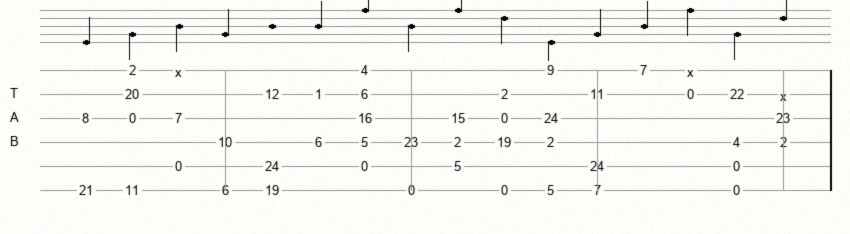0: (129, 111, 140, 125), (175, 159, 186, 173), (361, 159, 372, 173), (408, 183, 419, 197), (501, 111, 512, 125), (501, 183, 512, 197), (687, 87, 698, 101), (733, 183, 744, 197), (733, 159, 744, 173)
1: (315, 87, 326, 101)
10: (218, 135, 236, 149)
11: (125, 183, 143, 197), (590, 87, 608, 101)
12: (265, 87, 283, 101)
15: (451, 111, 469, 125)
16: (358, 111, 376, 125)
19: (265, 183, 283, 197), (497, 135, 515, 149)
2: (129, 63, 140, 77), (454, 135, 465, 149), (501, 87, 512, 101), (547, 135, 558, 149), (780, 135, 791, 149)
20: (125, 87, 143, 101)
21: (79, 183, 97, 197)
22: (730, 87, 748, 101)
23: (404, 135, 422, 149), (776, 111, 794, 125)
24: (265, 159, 283, 173), (544, 111, 562, 125), (590, 159, 608, 173)
4: (361, 63, 372, 77), (733, 135, 744, 149)
5: (361, 135, 372, 149), (454, 159, 465, 173), (547, 183, 558, 197)
6: (222, 183, 233, 197), (315, 135, 326, 149), (361, 87, 372, 101)
7: (175, 111, 186, 125), (594, 183, 605, 197), (640, 63, 651, 77)
8: (82, 111, 93, 125)
9: (547, 63, 558, 77)
x: (175, 65, 186, 76), (687, 65, 698, 76), (780, 89, 791, 100)
